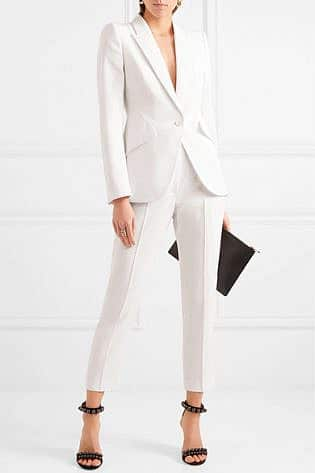feet: (64, 384, 211, 473)
